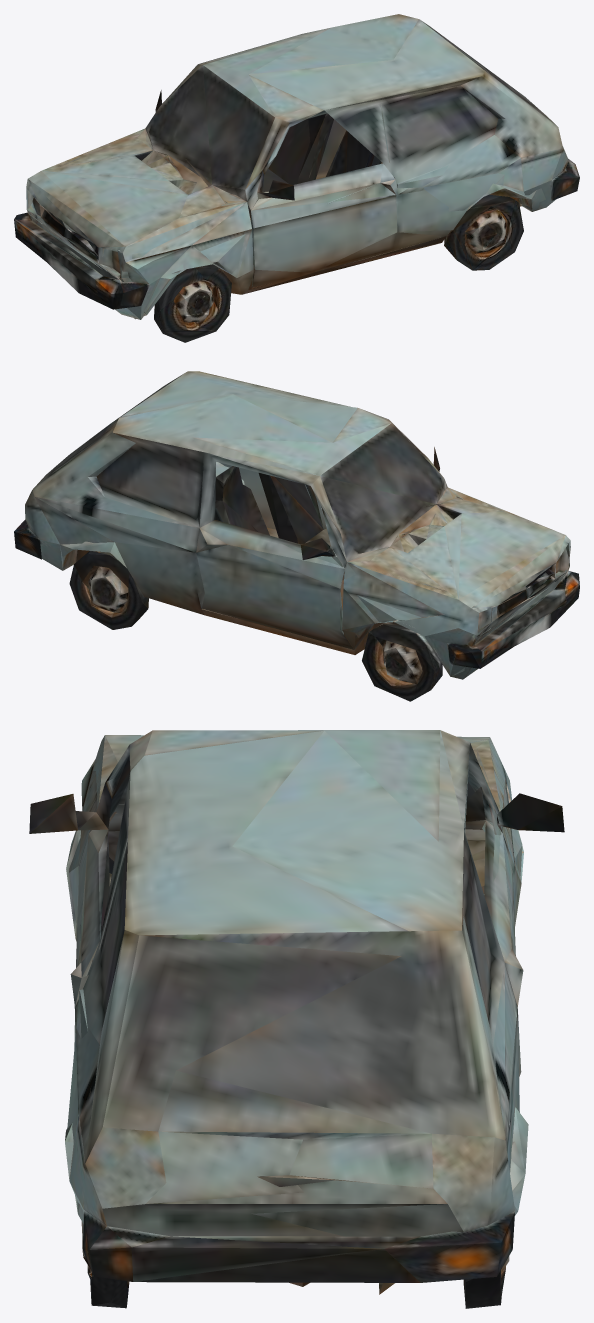
Rendered from hatchback.glb.
The picture shows the model from 3 angles, top to bottom: view 1: azimuth 30°, elevation 25°; view 2: azimuth 150°, elevation 25°; view 3: azimuth 270°, elevation 25°; orthographic projection. The views are drawn at different scales.
Size of the model in its own units: 1.9 by 0.7597 by 0.9258.
Materials: 1 (1 with a texture image).
